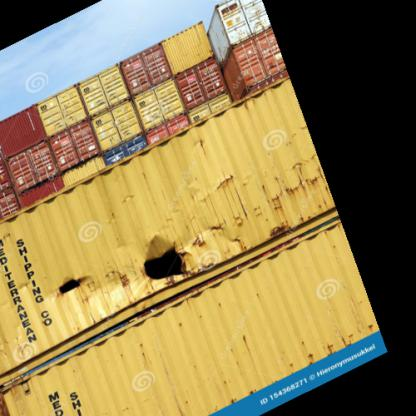Damage: (200, 151, 322, 228), (136, 231, 193, 302), (41, 266, 119, 302)
